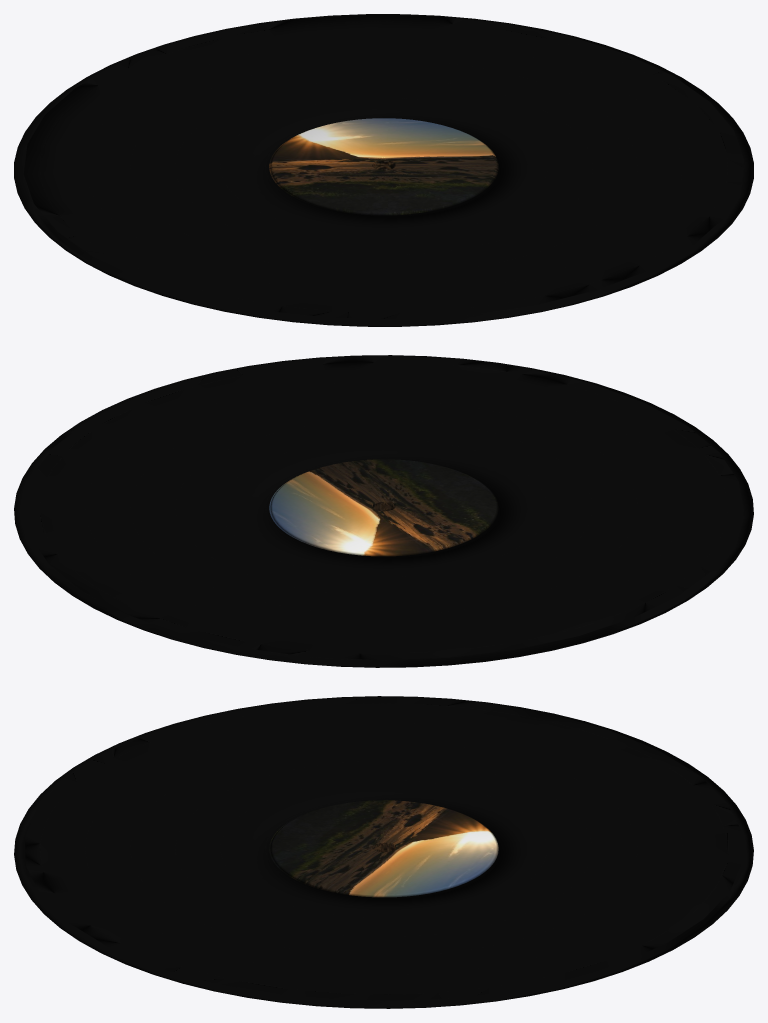
Rendered from vinyl.glb.
3 renders of one model, top to bottom at view 1: azimuth 30°, elevation 25°; view 2: azimuth 150°, elevation 25°; view 3: azimuth 270°, elevation 25°, orthographic.
Parts seen in each view (by area): view 1: Vinyl disk.001; view 2: Vinyl disk.001; view 3: Vinyl disk.001.
Boxes of the visible parts, x1=… form: Vinyl disk.001: x1=14, y1=14, x2=753, y2=326; Vinyl disk.001: x1=14, y1=355, x2=753, y2=667; Vinyl disk.001: x1=14, y1=696, x2=753, y2=1008.
Size of the model in its own units: 0.9652 by 0.0154 by 0.9652.
Materials: 3 (3 with a texture image).
